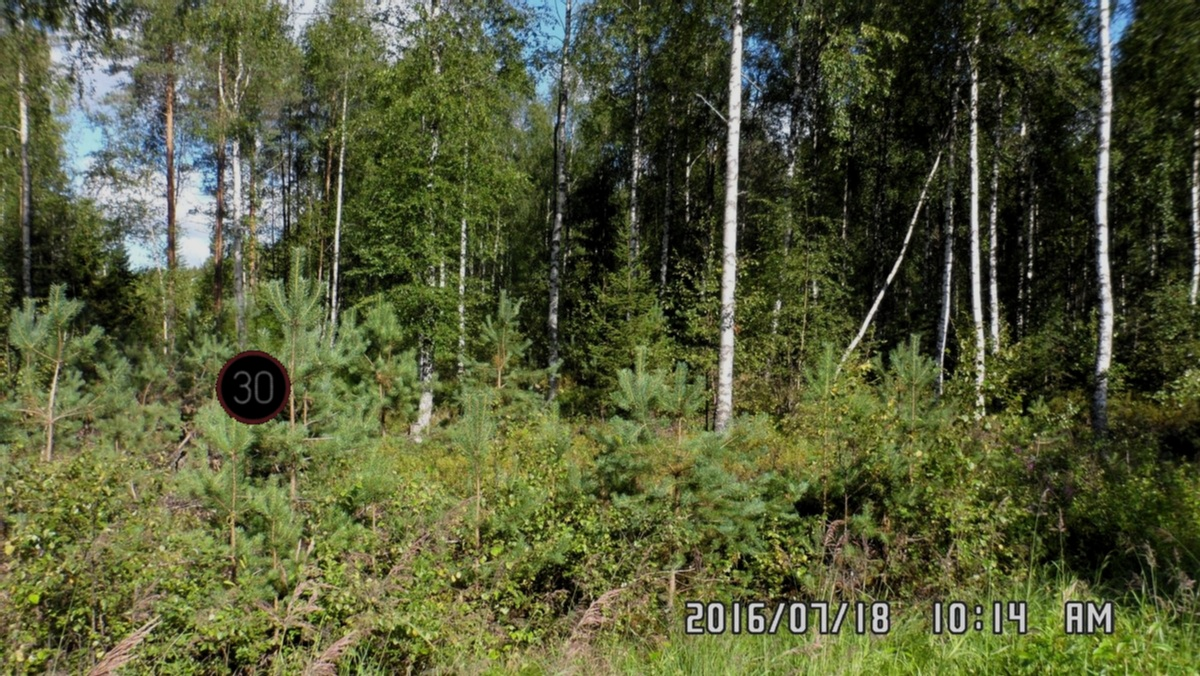30-start: (209, 344, 298, 429)
